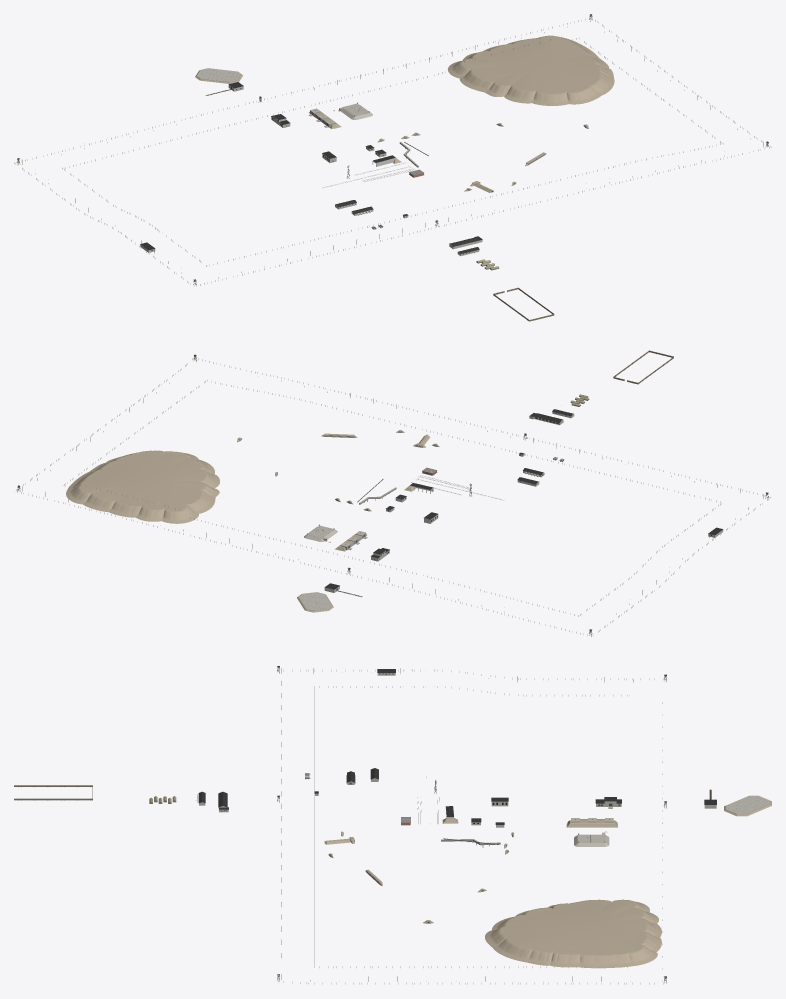
3 views of the same model, one above another, from view 1: azimuth 30°, elevation 25°; view 2: azimuth 150°, elevation 25°; view 3: azimuth 270°, elevation 25° (orthographic). The views are drawn at different scales.
Parts seen in each view (by area): view 1: SpoilHeap_Earth; view 2: SpoilHeap_Earth; view 3: SpoilHeap_Earth, Site51_ConcretePad.
Part boxes in pixels (x1,y1,x2,y2): SpoilHeap_Earth: (447,35,614,105); SpoilHeap_Earth: (66,450,219,523); SpoilHeap_Earth: (485,899,661,968); Site51_ConcretePad: (726,795,769,814).
Size of the model in its own units: 922 by 34.08 by 953.
